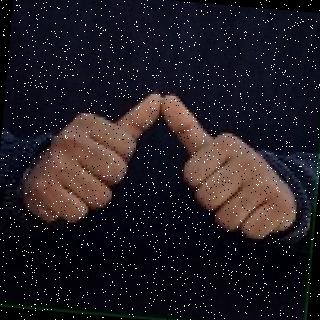A: (21, 77, 303, 256)
